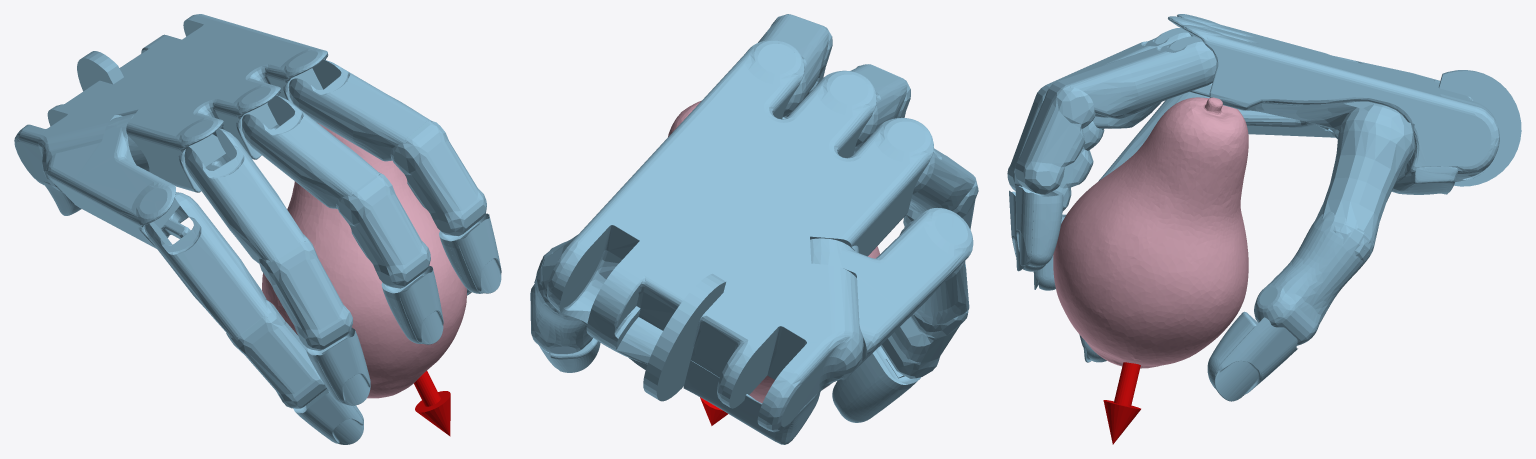
3 views of the same model, side by side, from view 1: azimuth 30°, elevation 25°; view 2: azimuth 150°, elevation 25°; view 3: azimuth 270°, elevation 25° (orthographic). The views are drawn at different scales.
Visible parts, largest first — view 1: world, pear.stl; view 2: world, pear.stl; view 3: world, pear.stl.
Boxes of the visible parts, box(x1,y1,x2,y2) form: world: box(14, 14, 501, 444); pear.stl: box(262, 122, 466, 398); world: box(530, 14, 978, 444); pear.stl: box(668, 100, 879, 402); world: box(1007, 14, 1521, 444); pear.stl: box(1053, 97, 1248, 368).
Size of the model in its own units: 0.1355 by 0.1384 by 0.1727.
